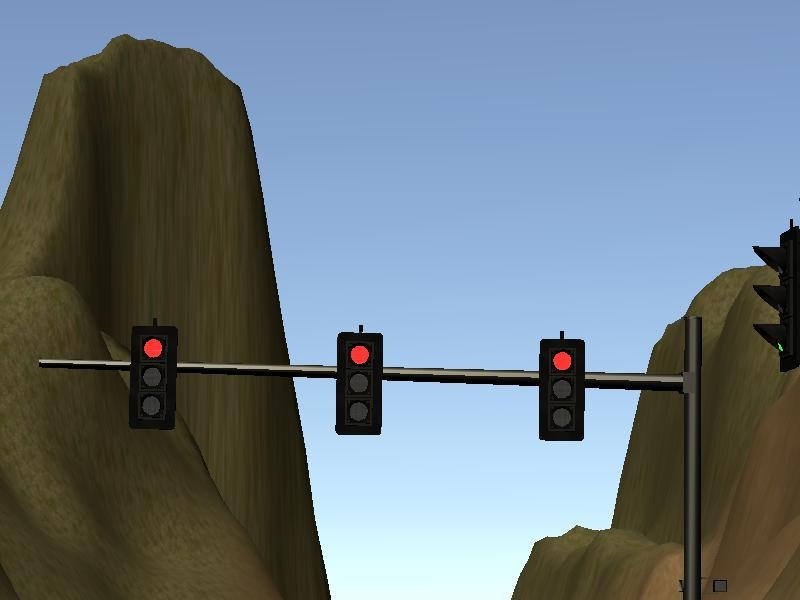RED: (334, 330, 383, 436), (538, 337, 587, 443), (127, 323, 176, 425)
